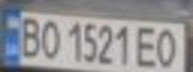1: (112, 21, 136, 68), (63, 19, 84, 62)
2: (97, 20, 118, 65)
5: (78, 19, 100, 64)
B: (15, 14, 45, 58)
E: (133, 24, 160, 70)
O: (151, 25, 184, 70), (36, 16, 63, 60)
